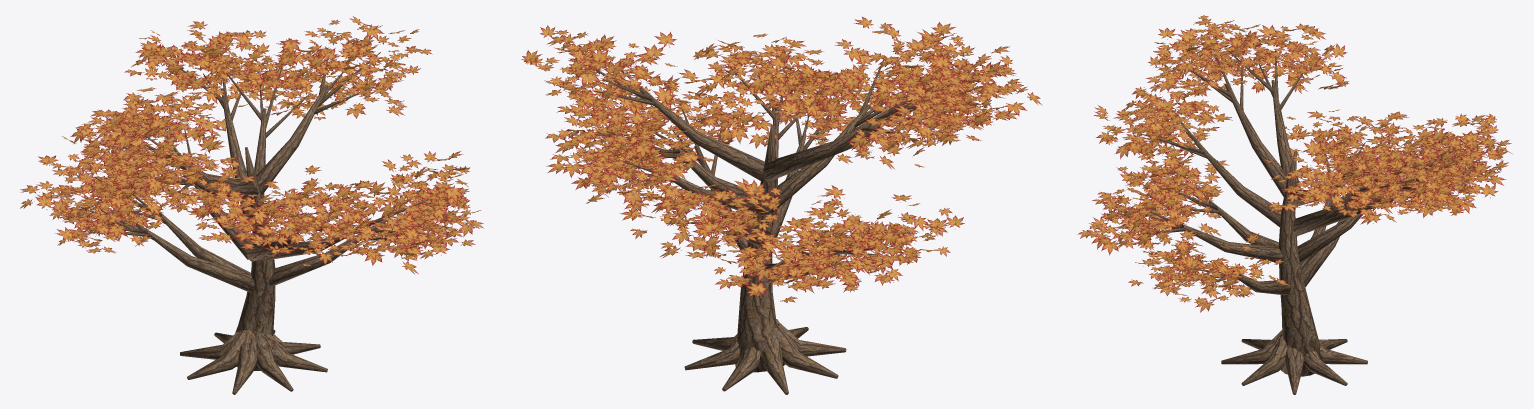
The model's file is Maple_Crafted_3.fbx.
3 views of the same model, side by side, from view 1: azimuth 30°, elevation 25°; view 2: azimuth 150°, elevation 25°; view 3: azimuth 270°, elevation 25° (orthographic). The views are drawn at different scales.
Parts seen in each view (by area): view 1: Maple_Crafted_3_Leaves, Maple_Crafted_3_Wood; view 2: Maple_Crafted_3_Leaves, Maple_Crafted_3_Wood; view 3: Maple_Crafted_3_Leaves, Maple_Crafted_3_Wood.
Part boxes in pixels (x1,y1,x2,y2): Maple_Crafted_3_Leaves: (20, 16, 483, 273); Maple_Crafted_3_Wood: (80, 52, 428, 394); Maple_Crafted_3_Leaves: (521, 17, 1042, 302); Maple_Crafted_3_Wood: (575, 58, 980, 394); Maple_Crafted_3_Leaves: (1077, 15, 1511, 312); Maple_Crafted_3_Wood: (1133, 49, 1464, 394).
Bounding box in the file's own units: 1196 × 848 × 1219.
